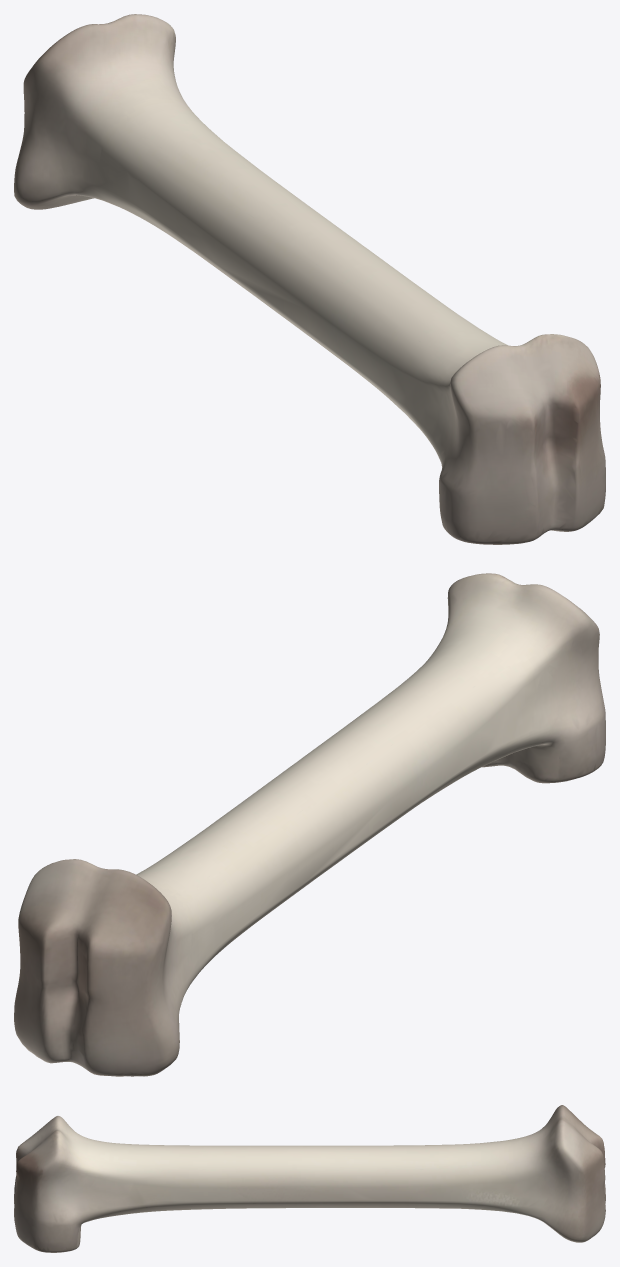
The model's file is horse-cannon.glb.
3 views of the same model, one above another, from view 1: azimuth 30°, elevation 25°; view 2: azimuth 150°, elevation 25°; view 3: azimuth 270°, elevation 25° (orthographic). The views are drawn at different scales.
Visible parts, largest first — view 1: model; view 2: model; view 3: model.
Boxes of the visible parts, x1,y1,x2,y2 form: model: [14, 14, 605, 544]; model: [14, 573, 605, 1076]; model: [14, 1105, 605, 1252].
Bounding box in the file's own units: 0.3555 × 0.4423 × 1.9.
Materials: 1 (1 with a texture image).
